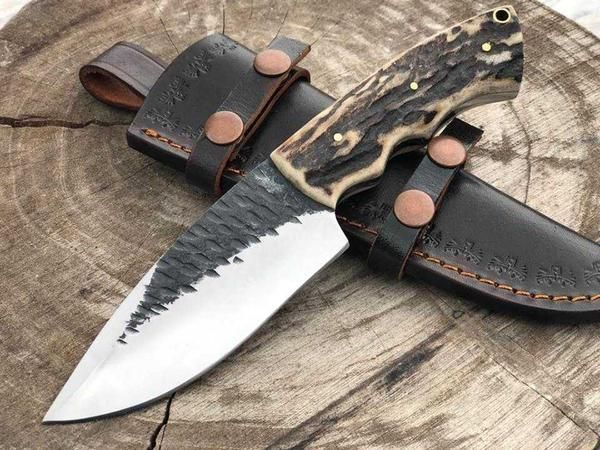knife: (37, 2, 534, 432)
